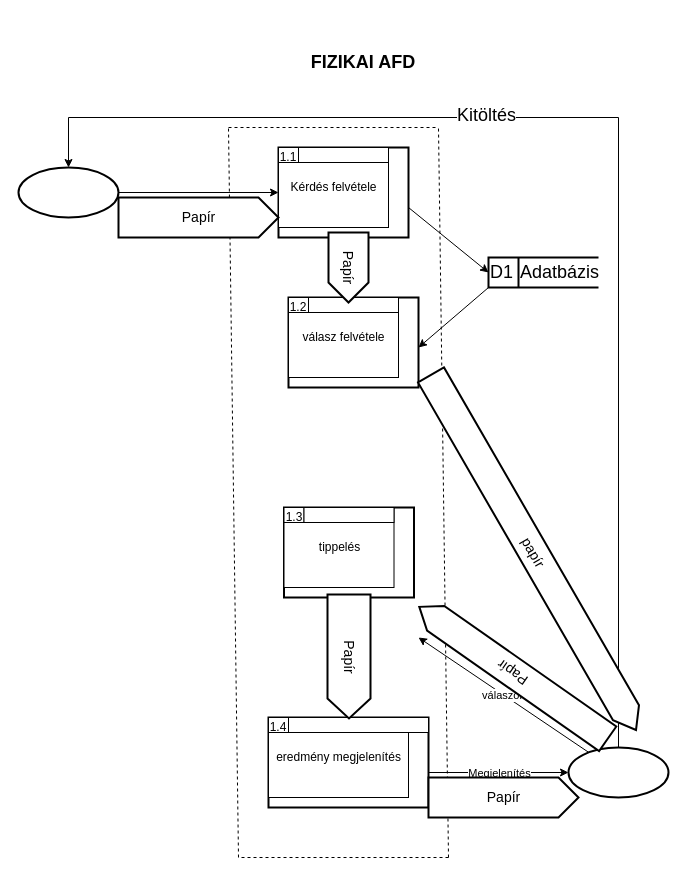
Some shapes in this 686 by 876 pixel diagram are drawn without their labels. The centre of each missing label's shape, as x and y in pixels:
Kérdés: pixel 68 192
User: pixel 618 772
